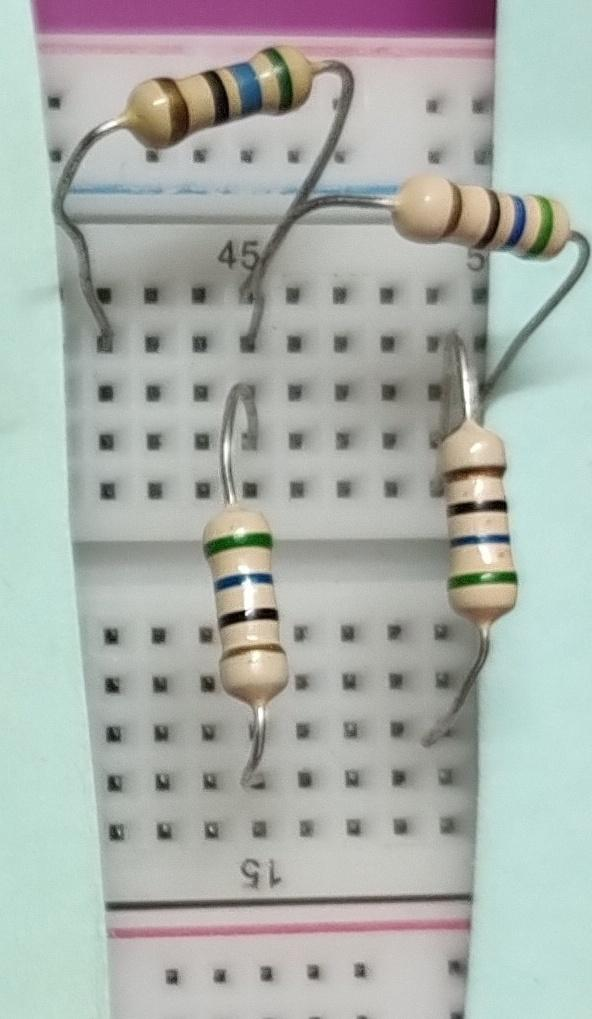resistor: (109, 37, 329, 154), (187, 497, 301, 716), (427, 413, 531, 631), (385, 163, 575, 264)
